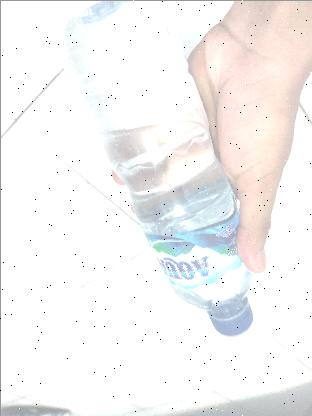Plastic Bottle: (54, 0, 260, 338)
